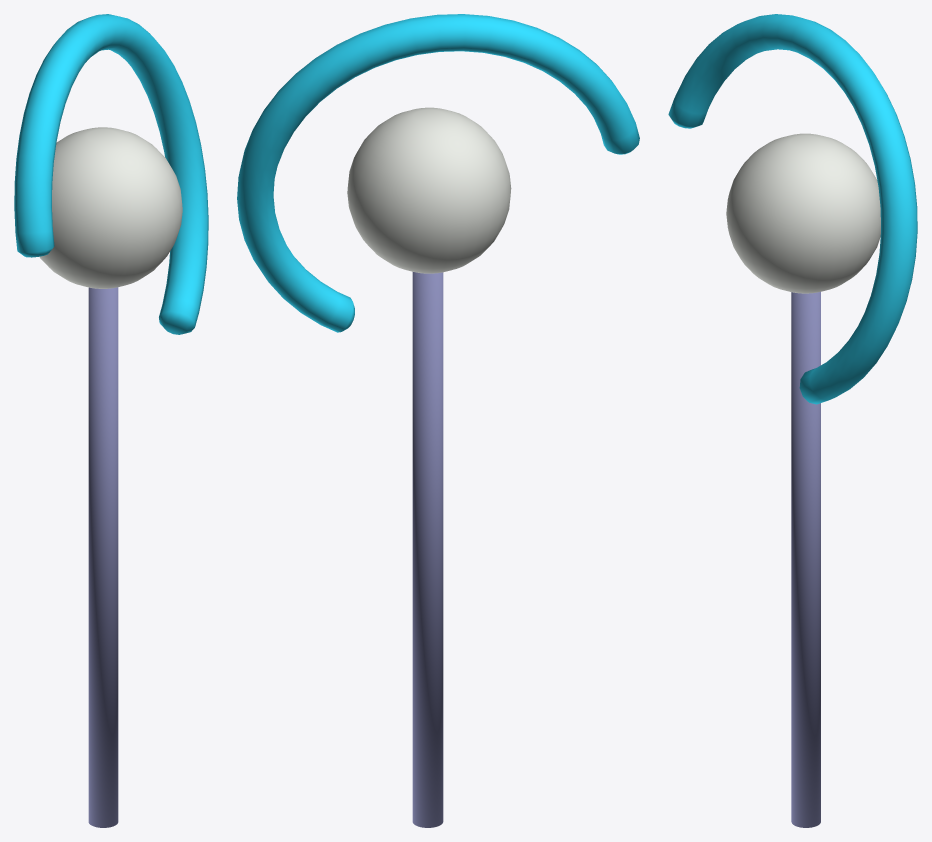
The model's file is Lampione.fbx.
The picture shows the model from 3 angles, left to right: view 1: azimuth 30°, elevation 25°; view 2: azimuth 150°, elevation 25°; view 3: azimuth 270°, elevation 25°; orthographic projection. The views are drawn at different scales.
Parts seen in each view (by area): view 1: Torus; view 2: Torus; view 3: Torus.
Part boxes in pixels (x1,y1,x2,y2): Torus: [14, 14, 208, 827]; Torus: [237, 14, 639, 827]; Torus: [668, 14, 917, 827].
Bounding box in the file's own units: 403 × 1074 × 309.
